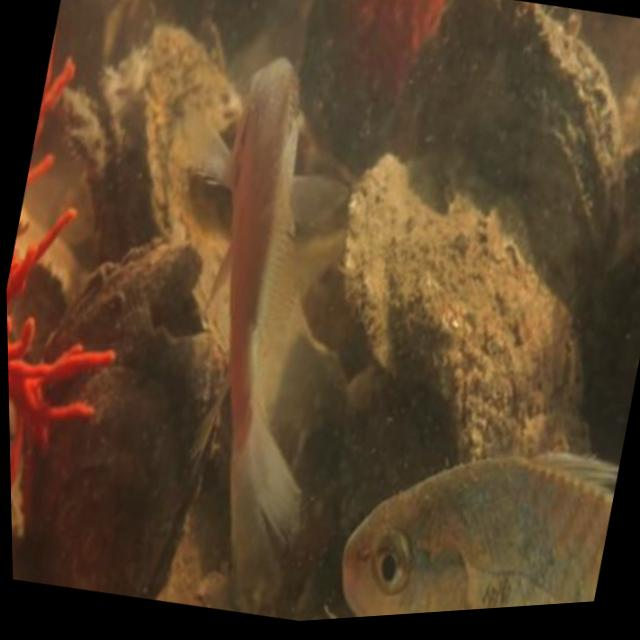Oyster-Closed: (28, 318, 223, 599), (35, 229, 197, 378)
Oyster-Indeterminate: (338, 159, 590, 458), (439, 0, 624, 274), (143, 19, 242, 305)
